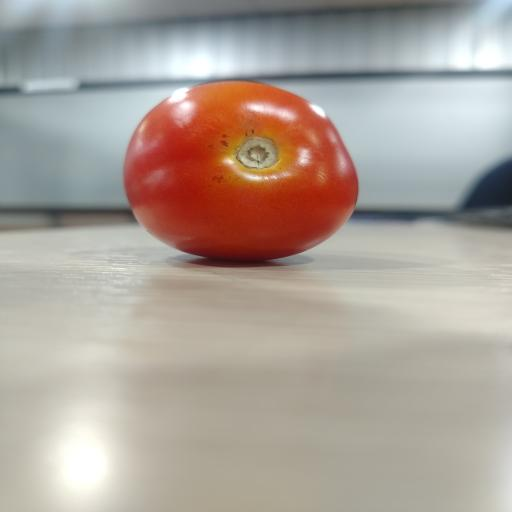ripe: (124, 82, 358, 260)
